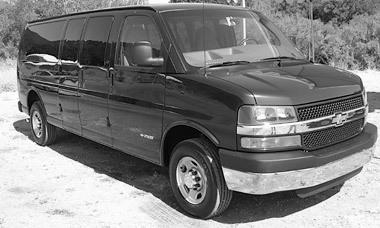car: (15, 1, 379, 221)
